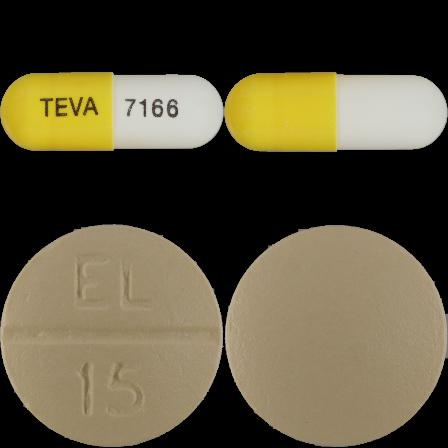68084-976: (0, 0, 224, 224)
